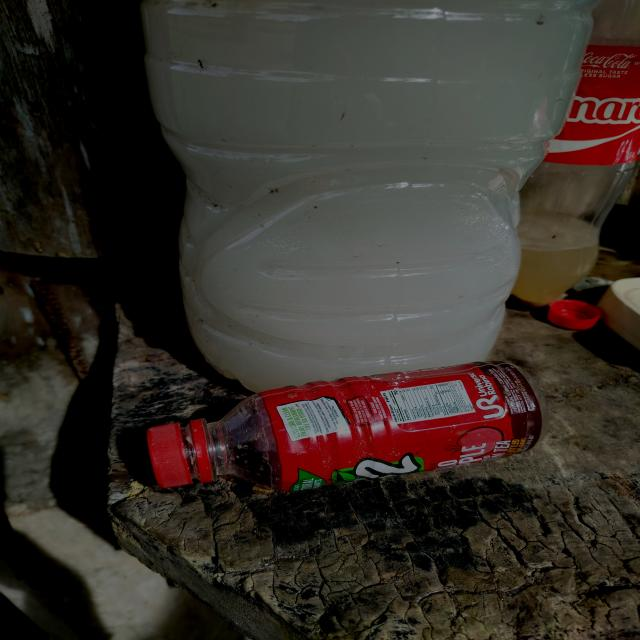plastic: (128, 0, 596, 398), (122, 356, 557, 504), (504, 0, 639, 320)
